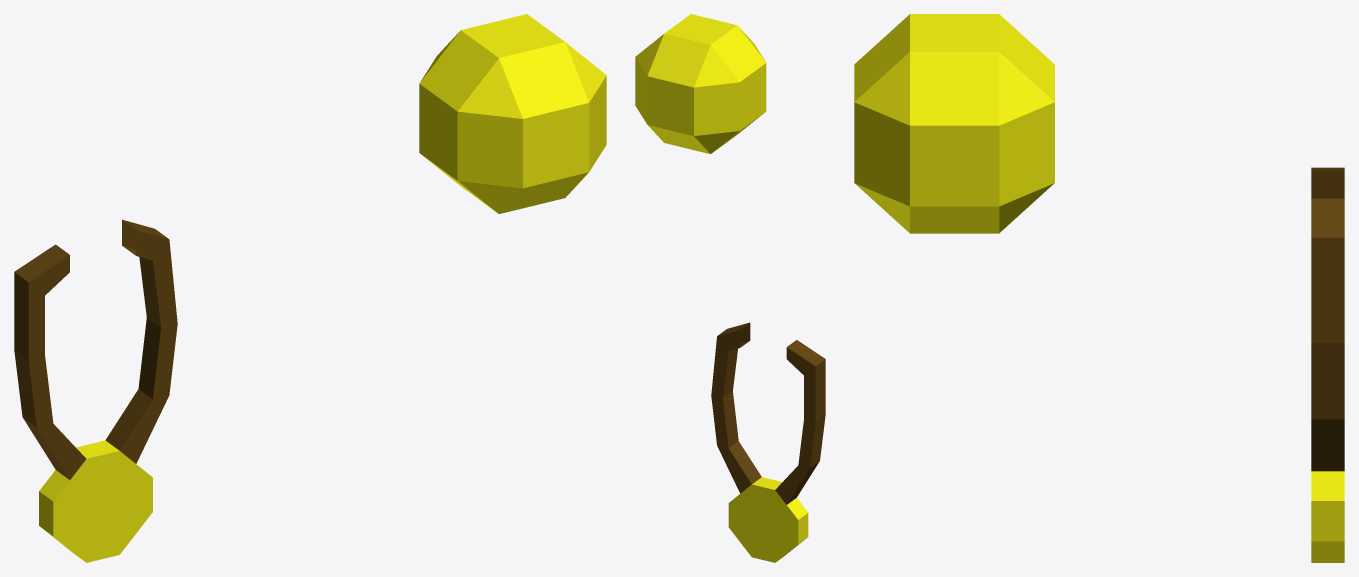
The model's file is model_3103_spotanim.obj.
3 views of the same model, side by side, from view 1: azimuth 30°, elevation 25°; view 2: azimuth 150°, elevation 25°; view 3: azimuth 270°, elevation 25° (orthographic). The views are drawn at different scales.
Visible parts, largest first — view 1: 3103; view 2: 3103; view 3: 3103.
Part boxes in pixels (x1,y1,x2,y2): 3103: [14, 14, 606, 562]; 3103: [635, 14, 825, 562]; 3103: [854, 14, 1344, 562].
Bounding box in the file's own units: 49 × 66 × 44.
